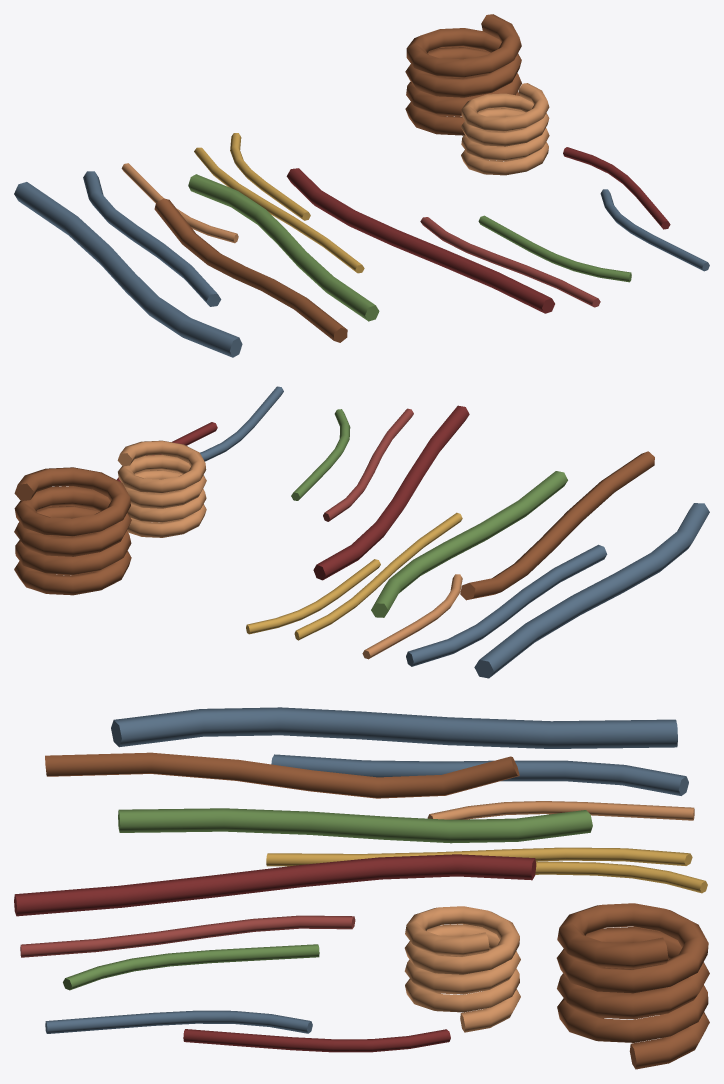
Rendered from wires 1.fbx.
3 renders of one model, top to bottom at view 1: azimuth 30°, elevation 25°; view 2: azimuth 150°, elevation 25°; view 3: azimuth 270°, elevation 25°, orthographic. The views are drawn at different scales.
Visible parts, largest first — view 1: Wire; view 2: Wire; view 3: Wire.
Boxes of the visible parts, bbox=[...] form: Wire: bbox=[14, 14, 709, 357]; Wire: bbox=[14, 386, 709, 678]; Wire: bbox=[14, 707, 709, 1069].
Bounding box in the file's own units: 52 × 9.33 × 47.35.
